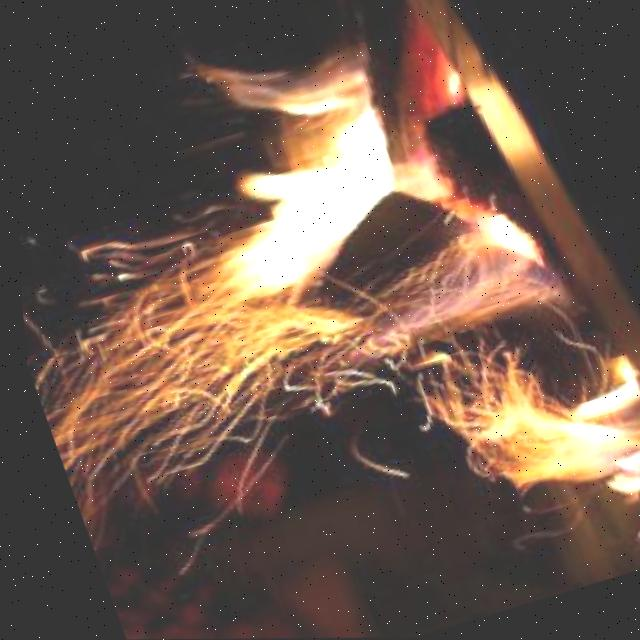Smoke: (92, 24, 471, 381), (403, 305, 640, 570)
